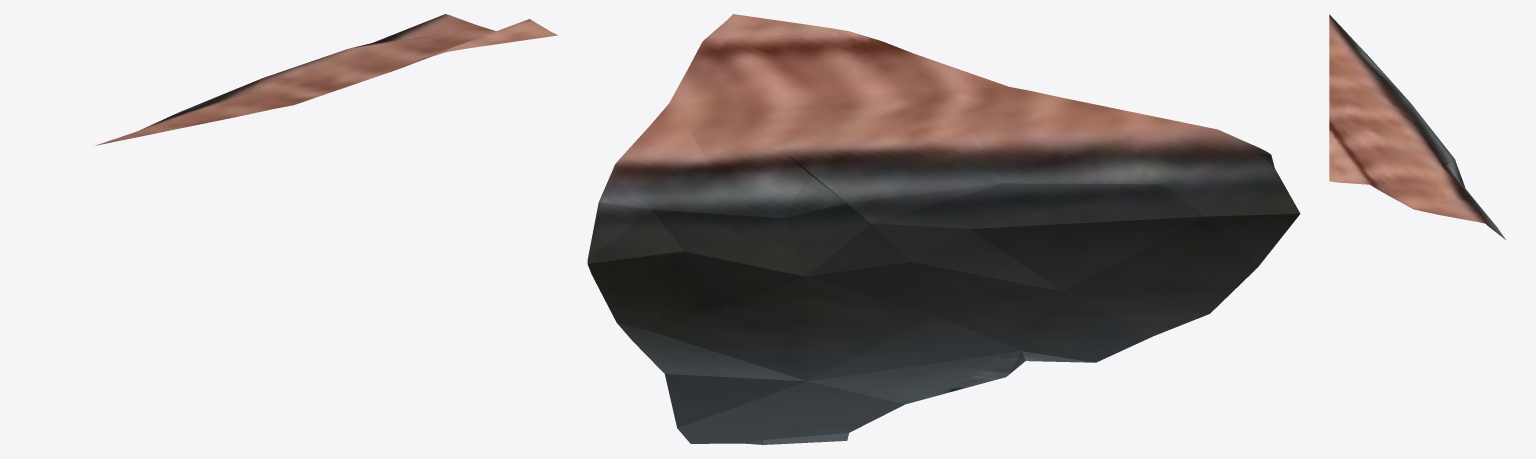
3 renders of one model, left to right at view 1: azimuth 30°, elevation 25°; view 2: azimuth 150°, elevation 25°; view 3: azimuth 270°, elevation 25°, orthographic. The views are drawn at different scales.
Size of the model in its own units: 1.34 by 0.9279 by 0.5969.
Materials: 1 (1 with a texture image).
